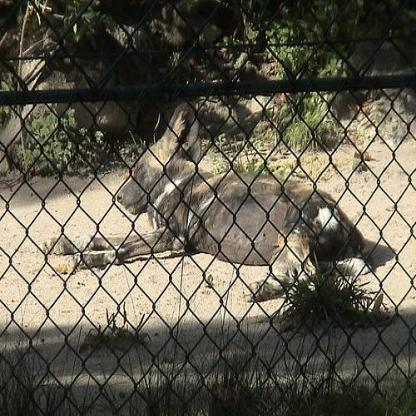African_hunting_dog: (38, 103, 364, 296)
